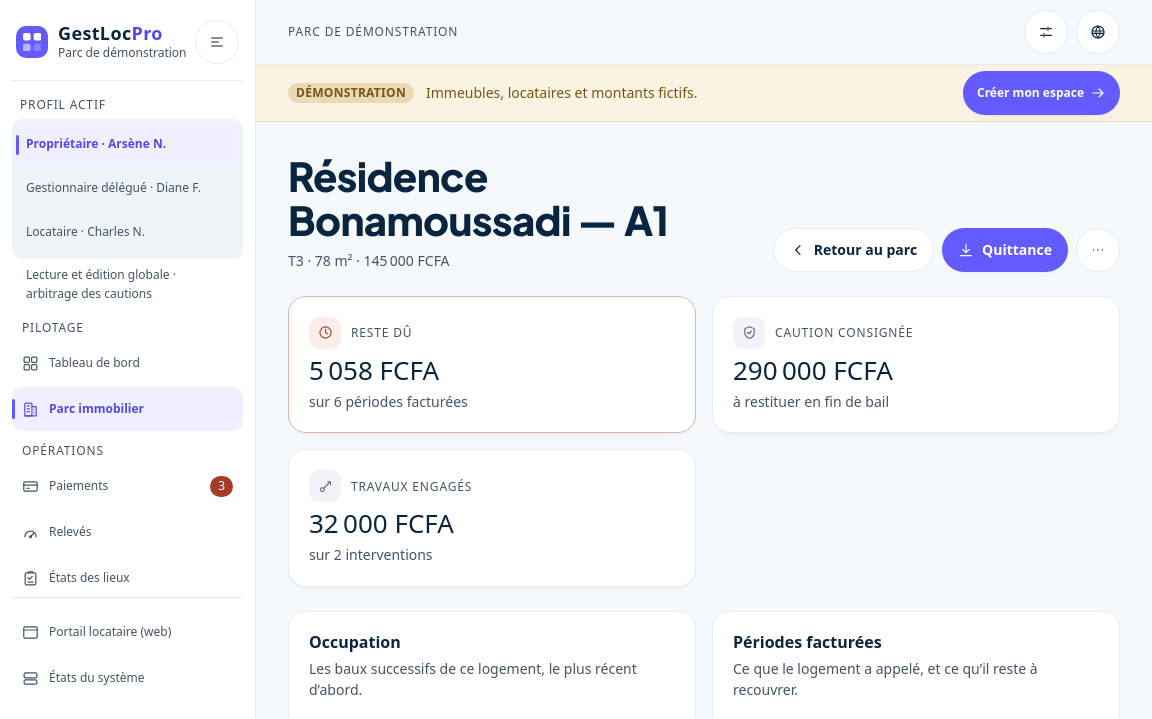
le bail et ses sûretés › PROPOSE DE CONVENIR UN PLAN quand il n’y en a aucun
Expected: the heading "Résidence Bonamoussadi — A1" is shown, [288, 150, 668, 245]
Click the button named "Autres actions".
click(1098, 250)  # box [1076, 228, 1120, 272]
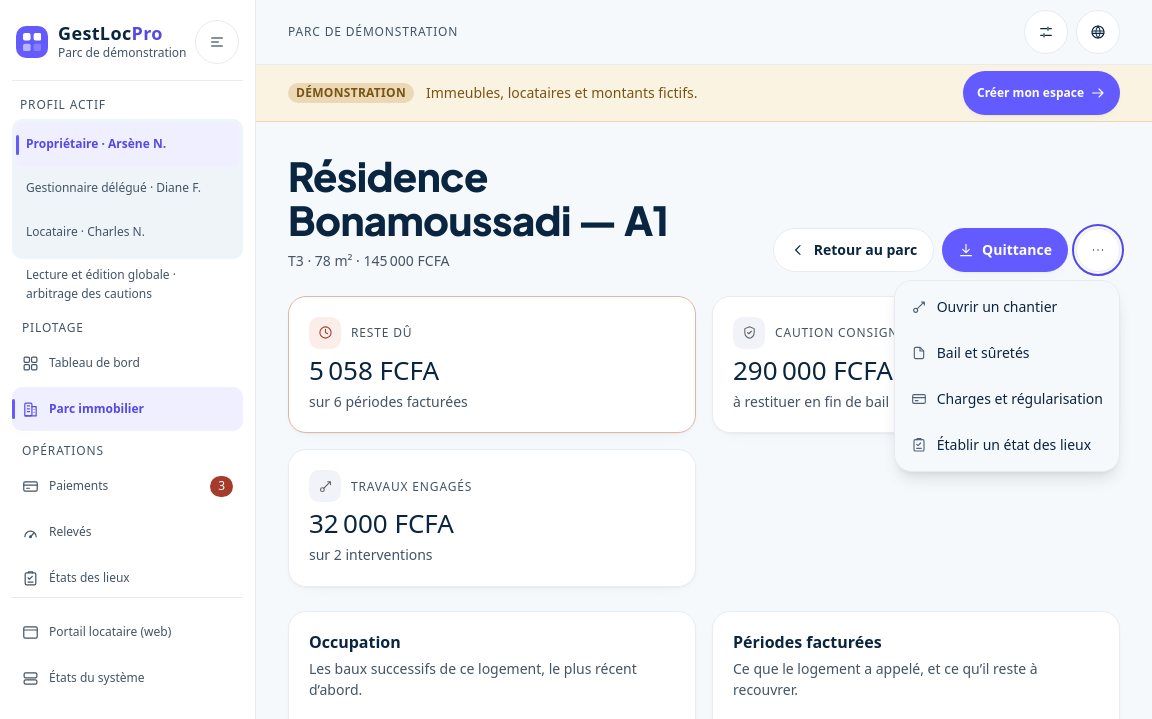
Click the menu item "Bail et sûretés".
click(1007, 353)  # box [899, 331, 1115, 375]
(page scrolled)
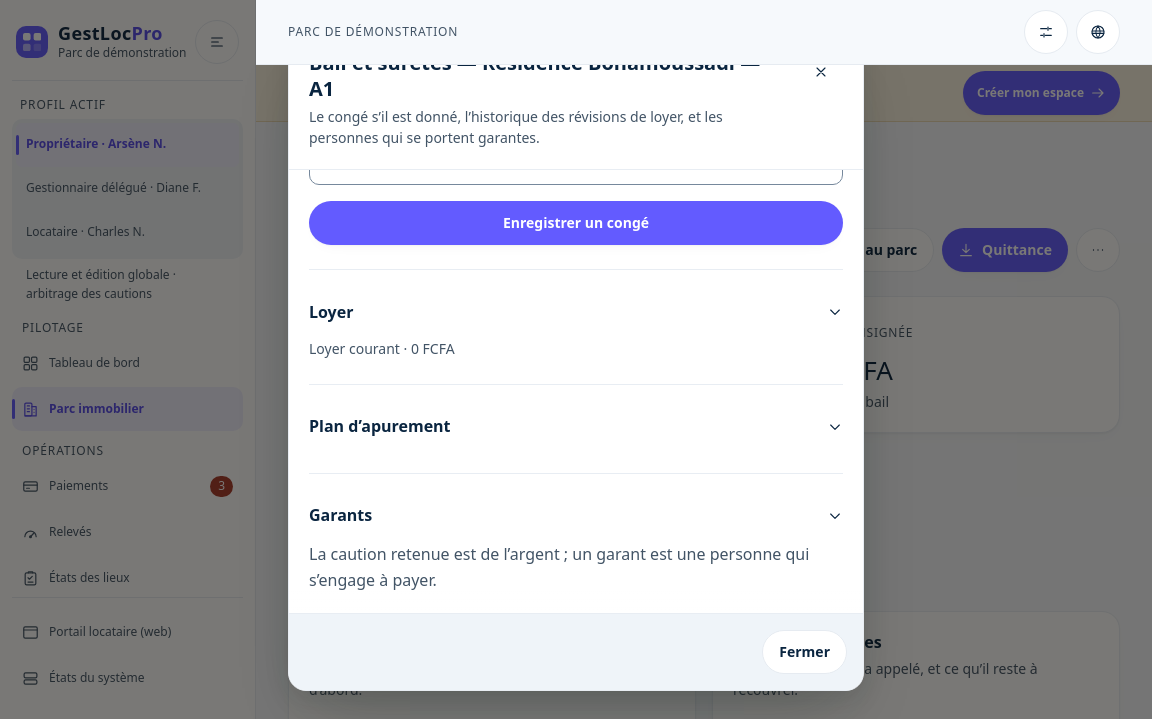
Click the button "Plan d’apurement".
click(380, 426)  # box [309, 405, 843, 449]
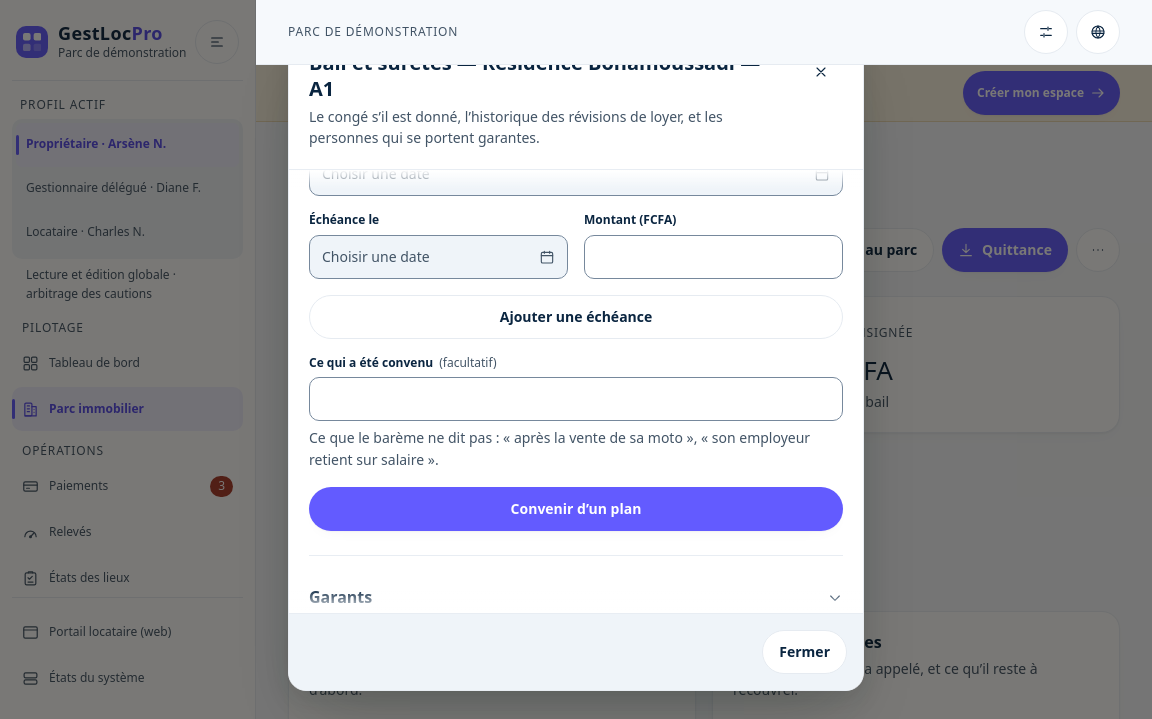
Expected: the button "Convenir d’un plan" is shown, [309, 487, 843, 531]
Click the button "Ajouter une échéance".
click(576, 316)  # box [309, 294, 843, 338]
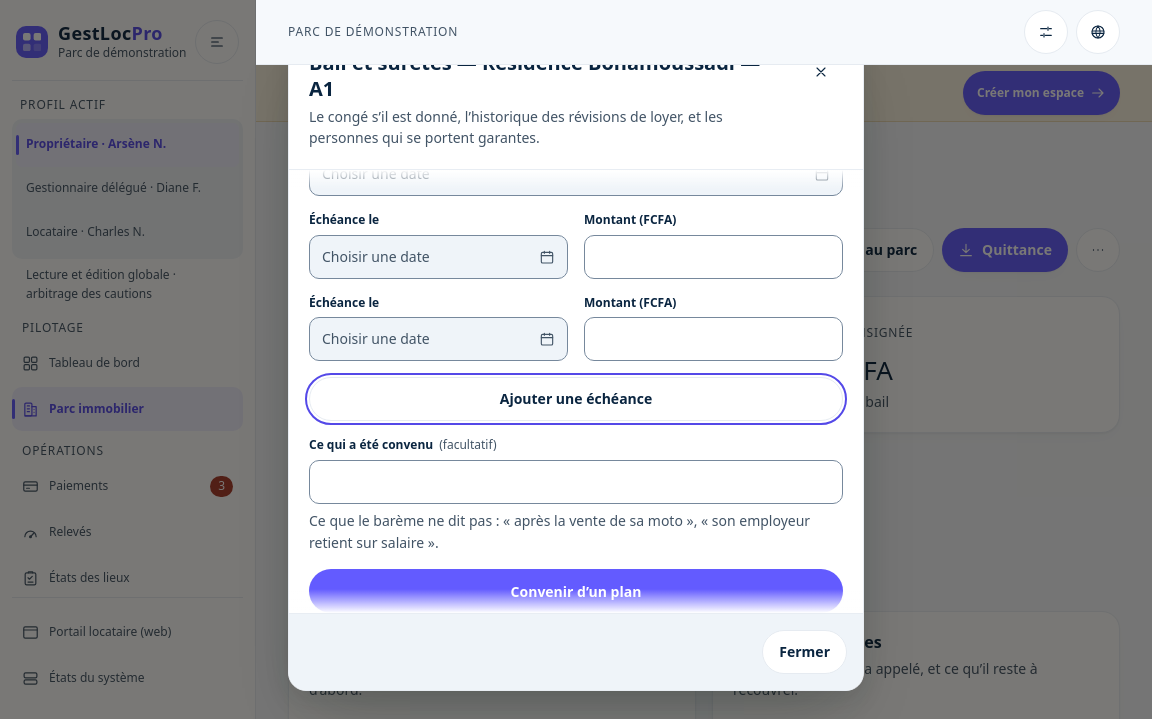
Expected: the number of buttons named "Échéance le" is 2, [309, 234, 568, 278]; [309, 317, 568, 361]
